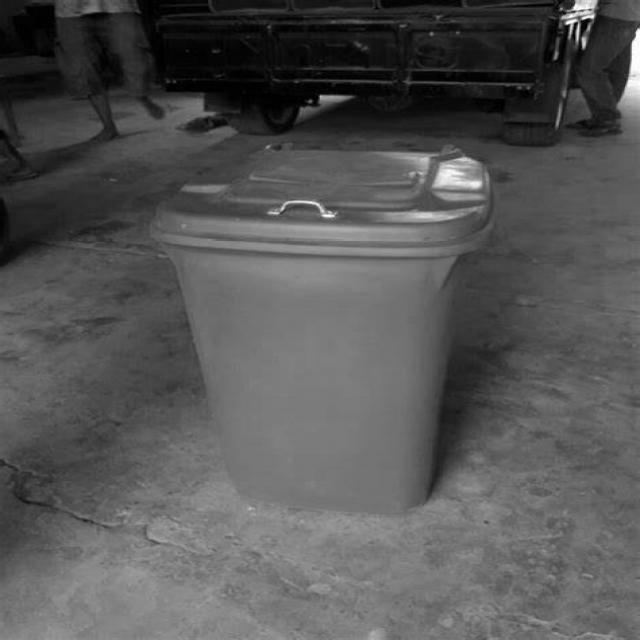garbage container: (119, 123, 515, 526)
